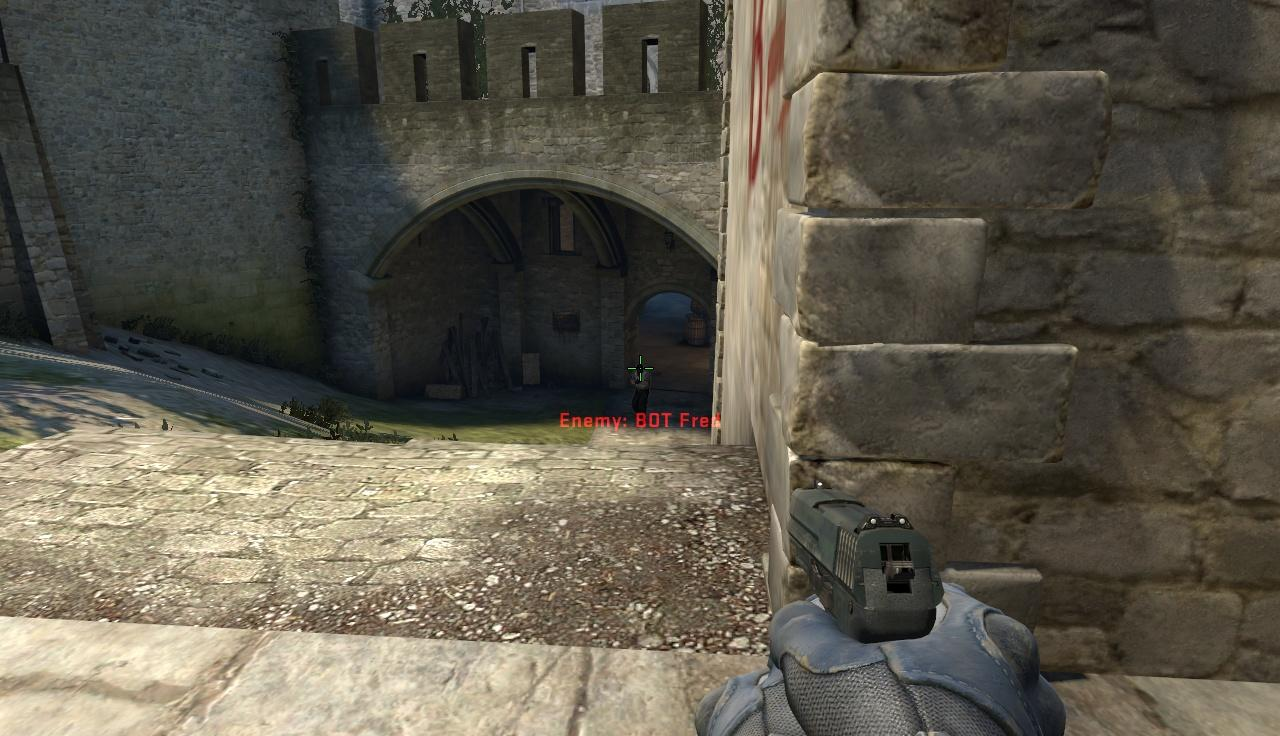pistol: (786, 480, 1063, 736)
tt: (631, 364, 649, 416)
tthead: (637, 364, 644, 374)
